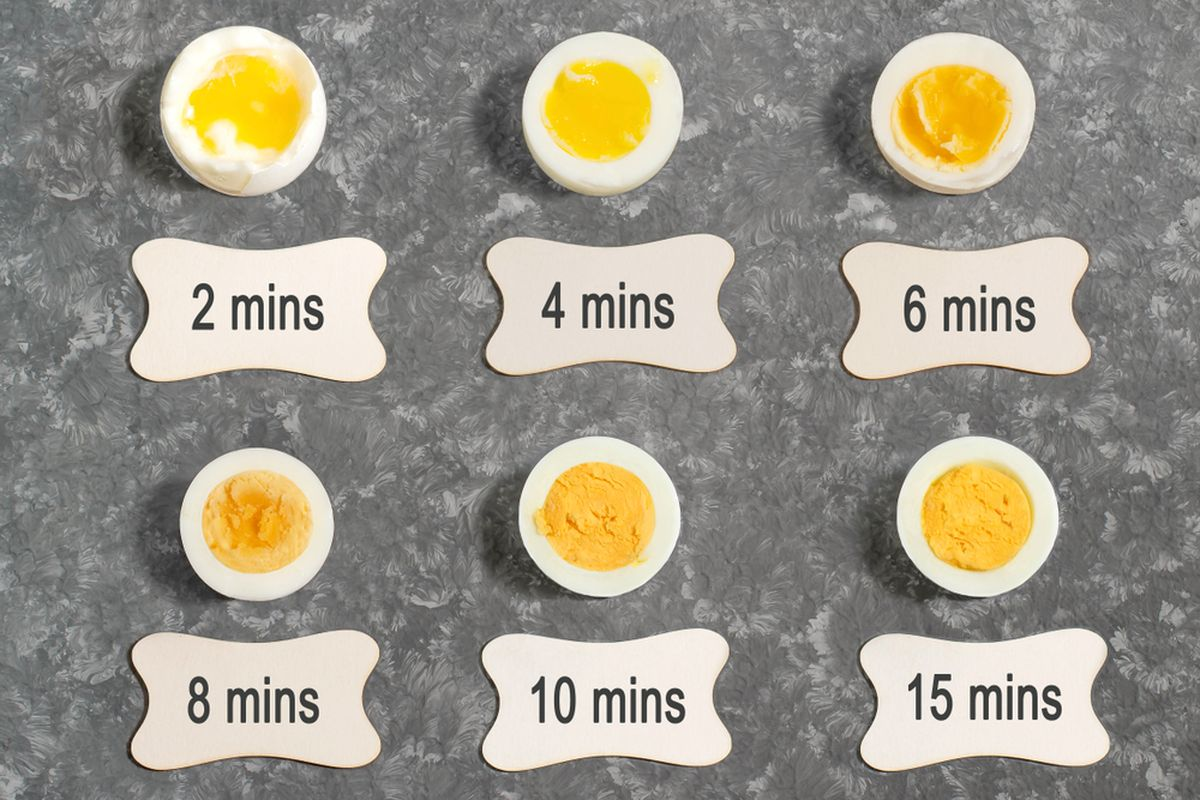telur: (898, 41, 1005, 187), (543, 463, 668, 584), (916, 455, 1033, 578), (203, 465, 320, 586), (544, 53, 657, 175), (190, 41, 280, 162)
